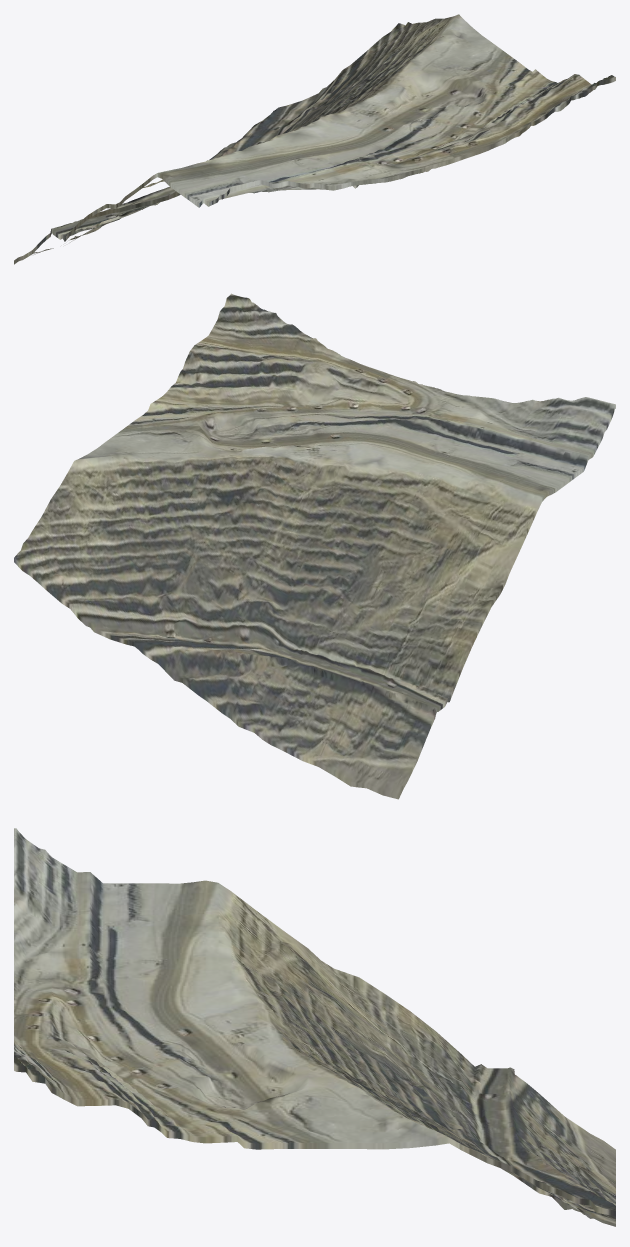
3 views of the same model, one above another, from view 1: azimuth 30°, elevation 25°; view 2: azimuth 150°, elevation 25°; view 3: azimuth 270°, elevation 25° (orthographic). The views are drawn at different scales.
Parts seen in each view (by area): view 1: l1-2-0; view 2: l1-2-0; view 3: l1-2-0.
Part boxes in pixels (x1,y1,x2,y2): l1-2-0: (14, 14, 615, 264); l1-2-0: (14, 293, 615, 799); l1-2-0: (14, 828, 615, 1226).
Bounding box in the file's own units: 768 × 483 × 751.
1 material, 1 textured.
